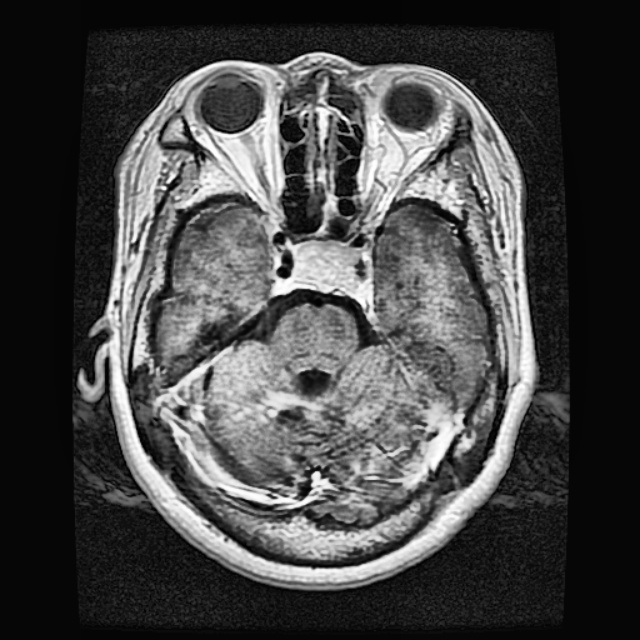Pituitary: (289, 242, 360, 293)
